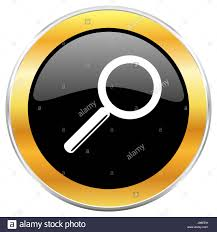searchIcon: (64, 52, 162, 152)
